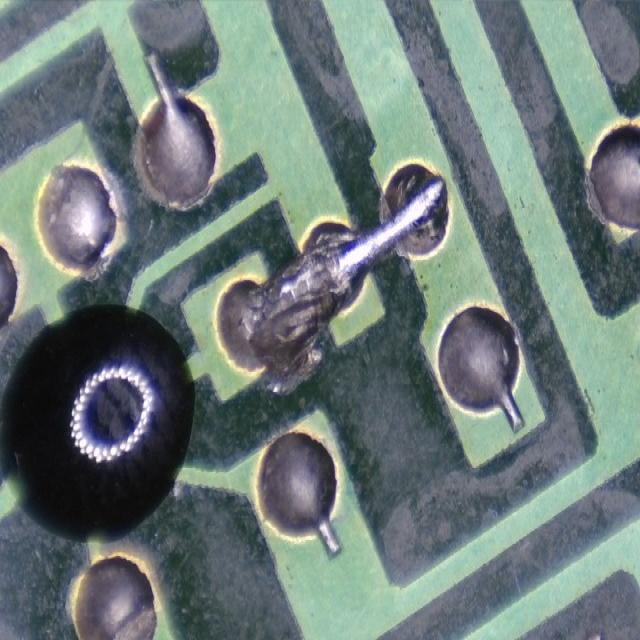Short_circuit: (247, 179, 443, 394)
